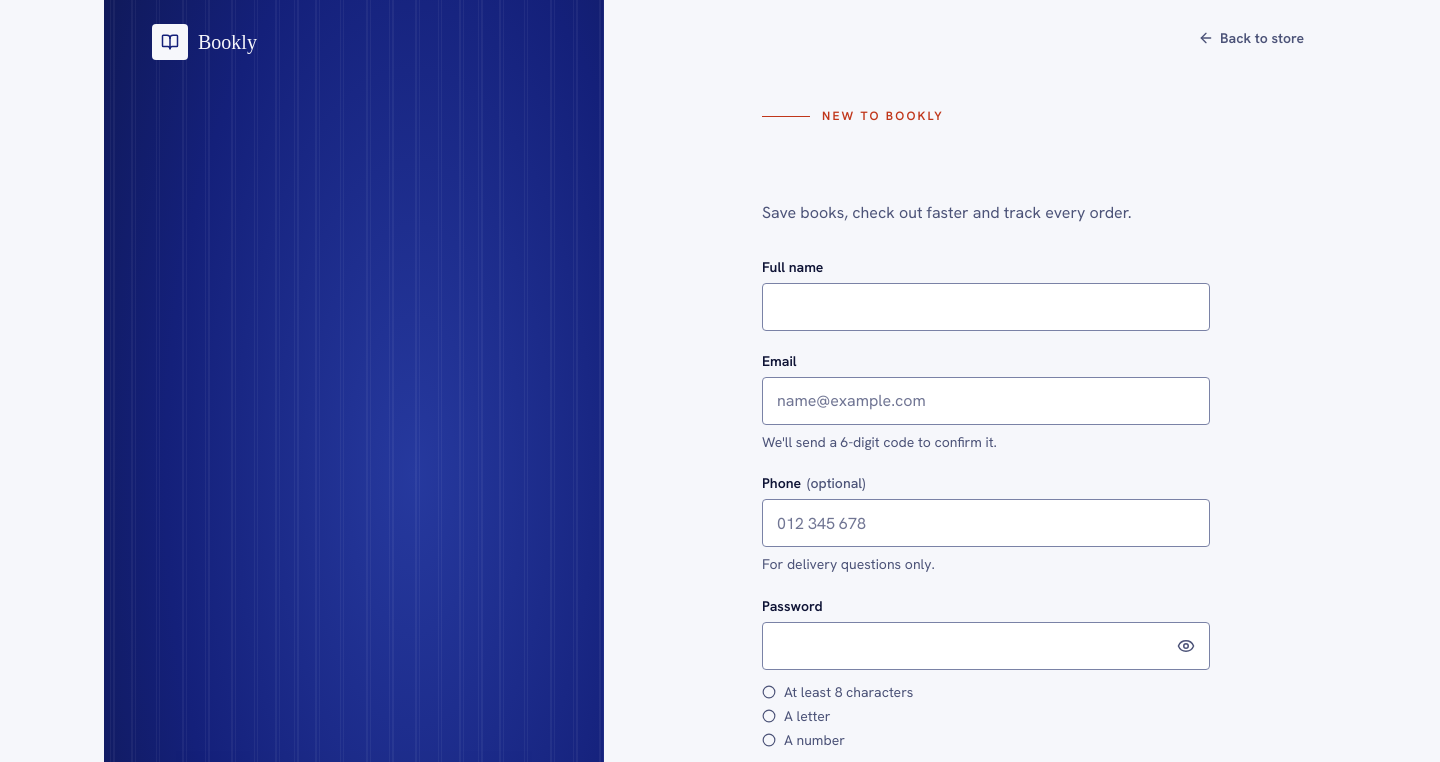
Test: Sign-up with Telegram › still needs the email when confirming by email, and hides Telegram while the bot is off
Expected: the field labelled "Phone(optional)" is shown, top-left (762, 499), bottom-right (1210, 547)
Type "Sok Dara" into the field labelled "Full name" at (986, 307), box top-left (762, 283), bottom-right (1210, 331)
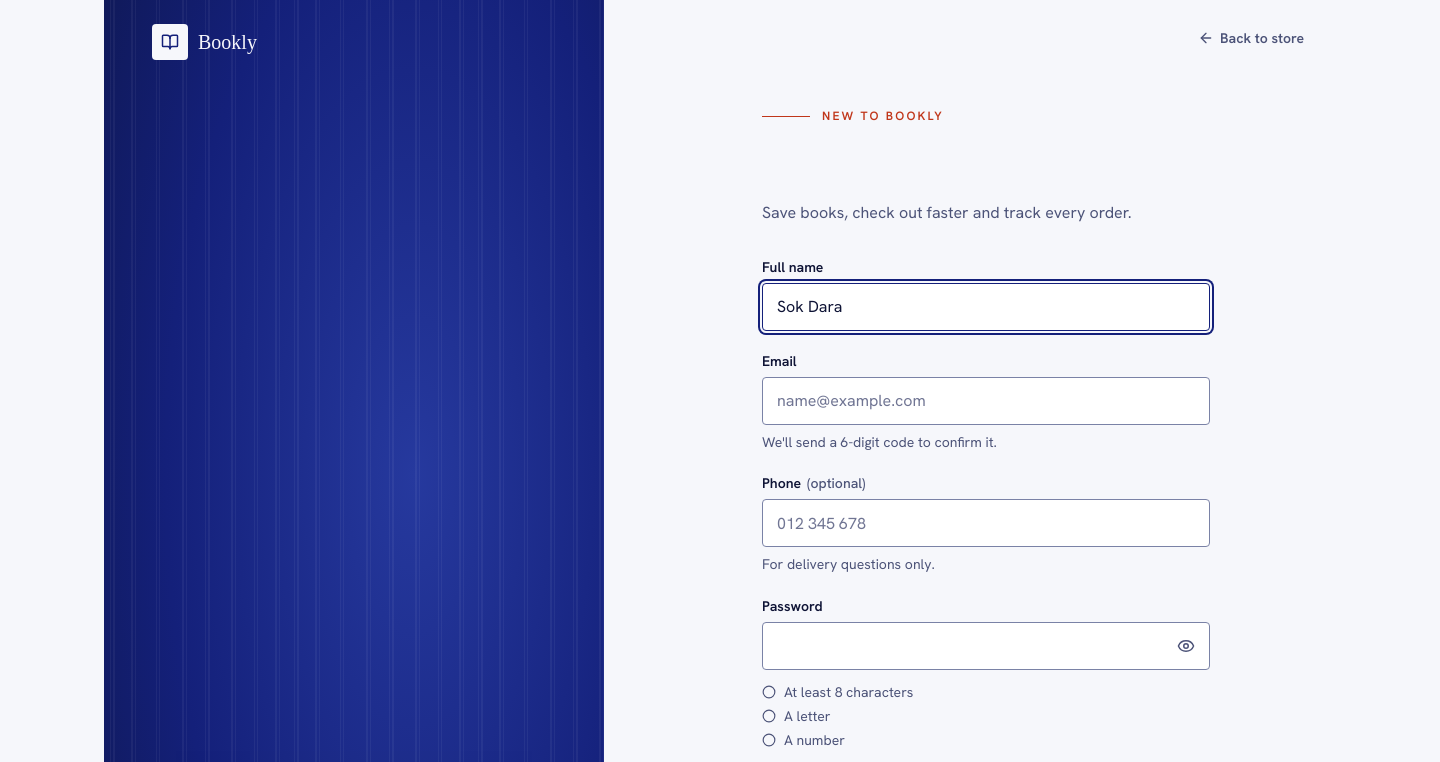
Type "reading123" into the password field labelled "Password" at (986, 646), box top-left (762, 622), bottom-right (1210, 670)
(page scrolled)
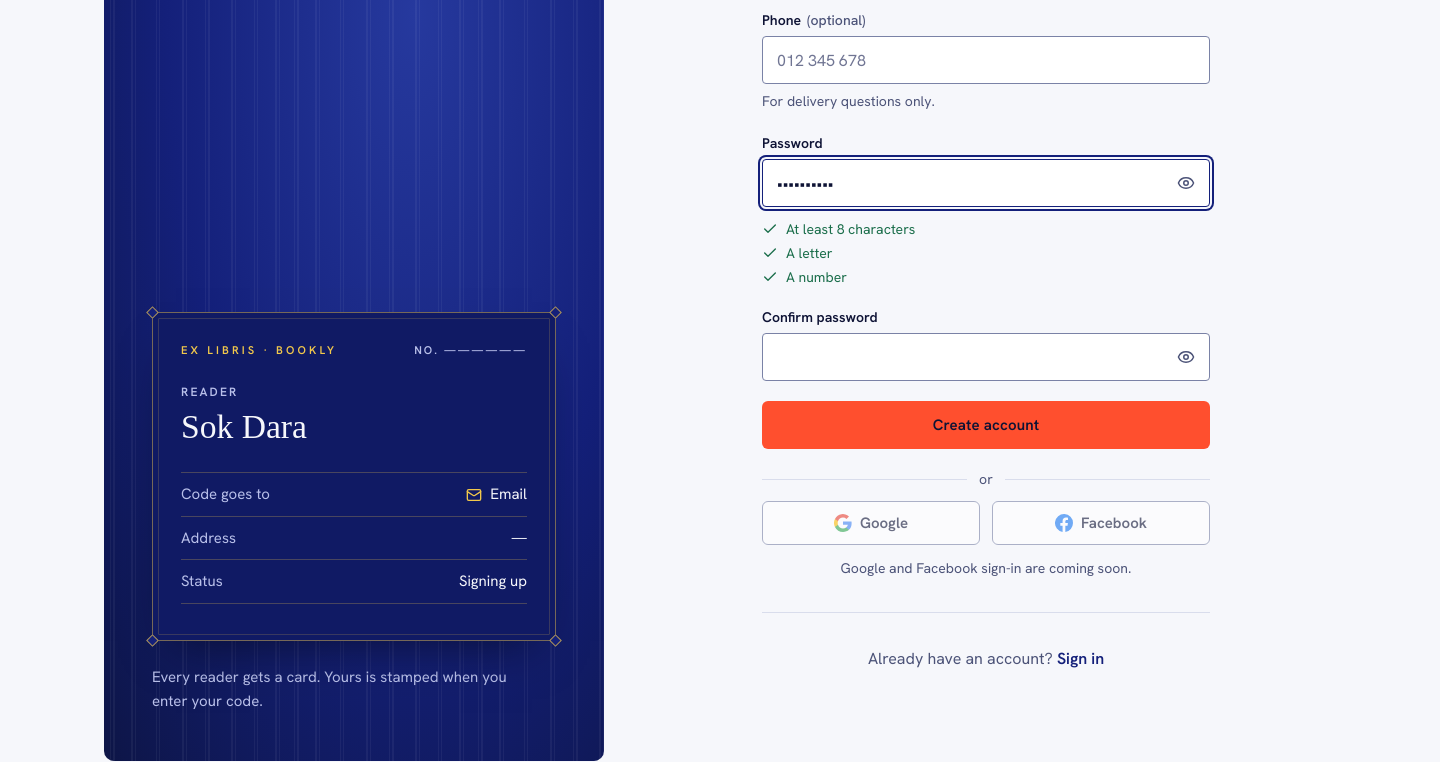
Type "reading123" into the password field labelled "Confirm password" at (986, 357), box top-left (762, 333), bottom-right (1210, 381)
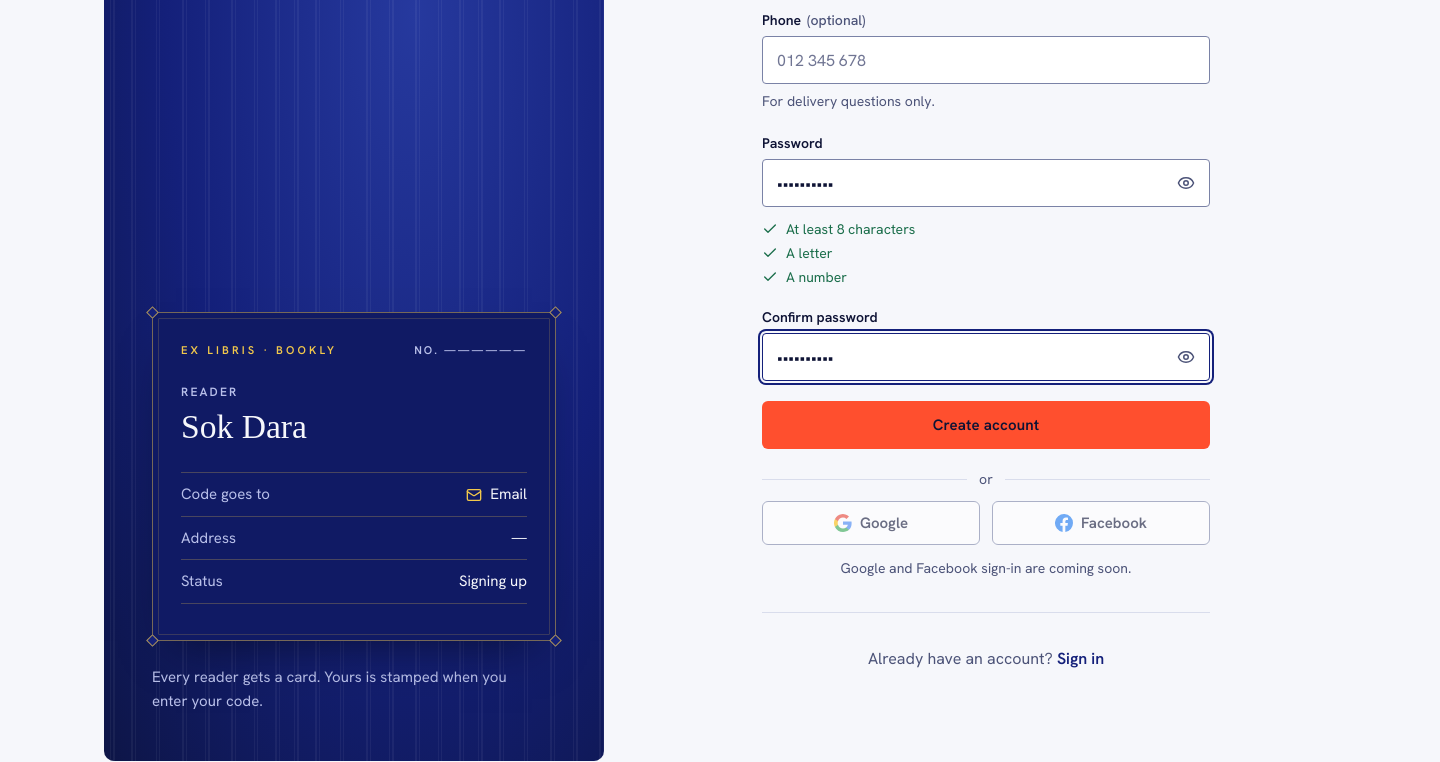
Click the button "Create account" at (986, 425), box top-left (762, 401), bottom-right (1210, 449)
(page scrolled)
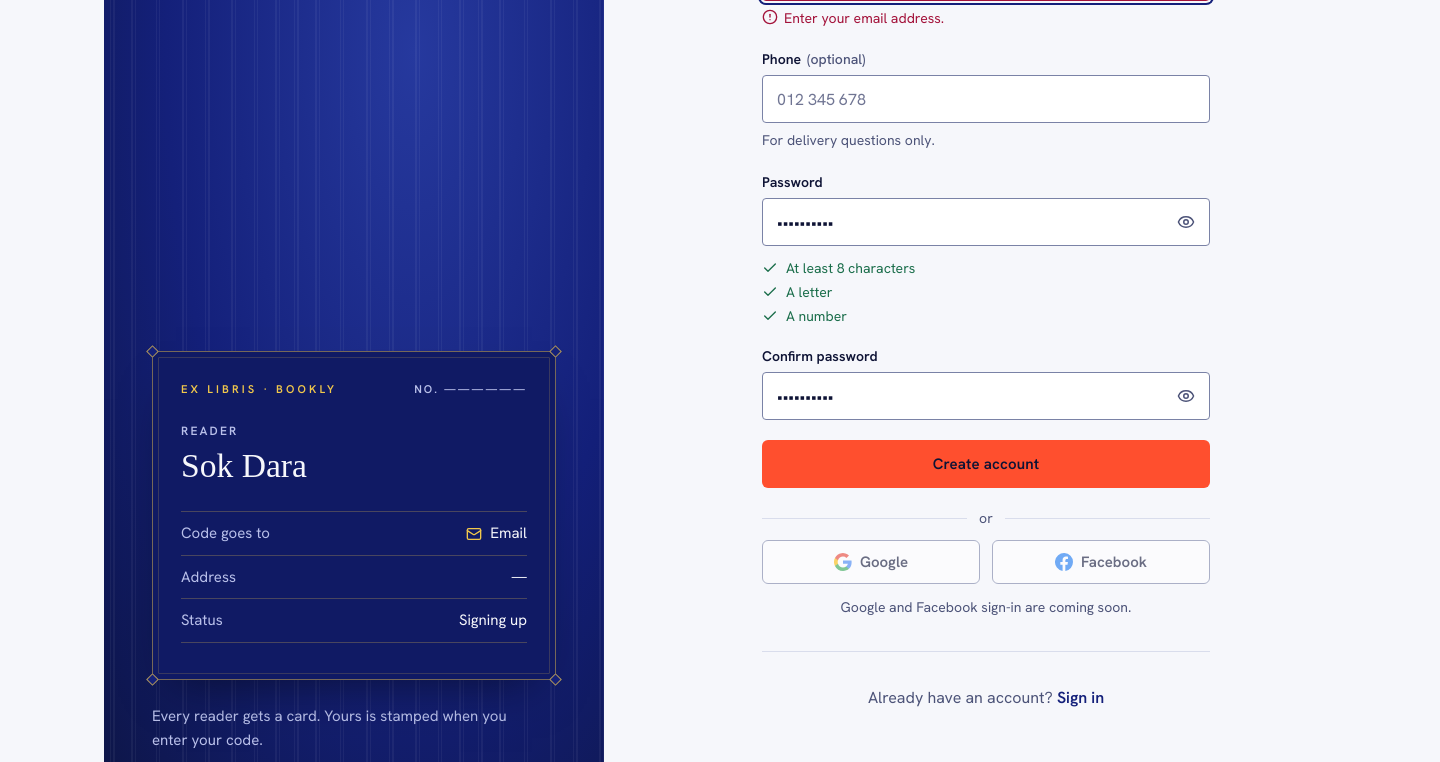
Now the text "Enter your email address." is shown, box top-left (784, 7), bottom-right (944, 30)
